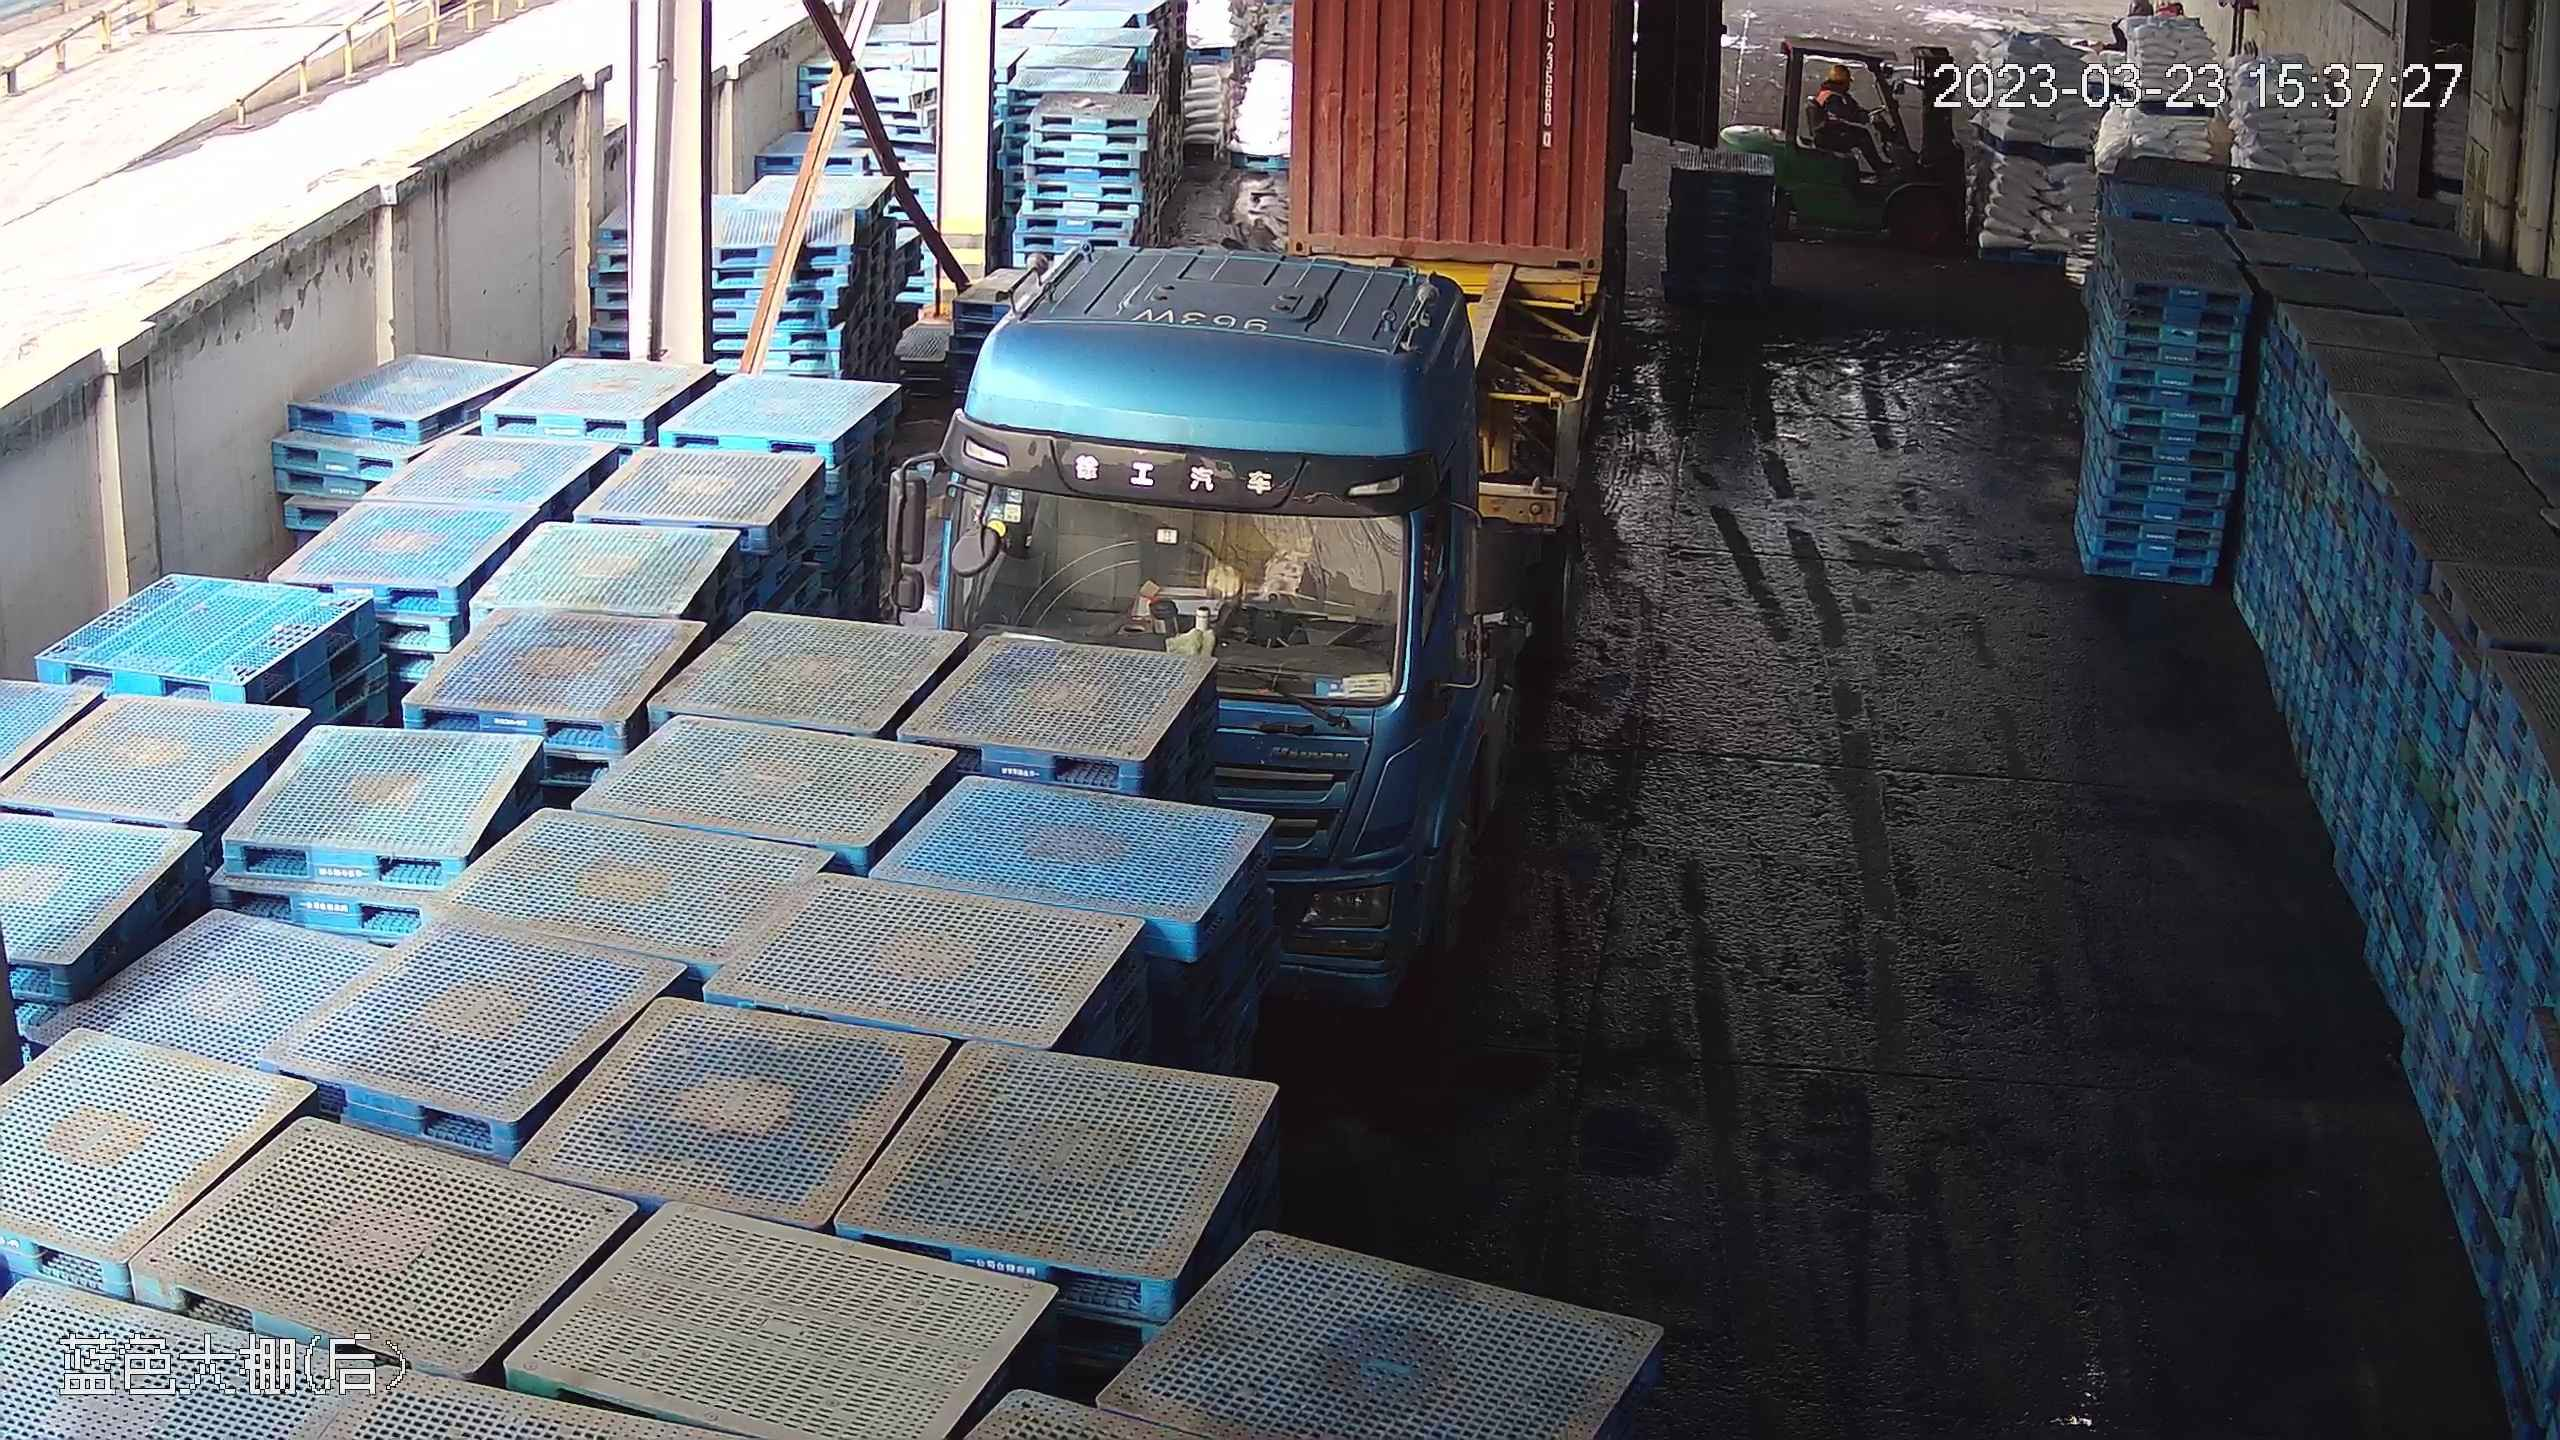head: (1812, 60, 1863, 115)
helmet: (1821, 59, 1851, 85)
people: (1803, 59, 1890, 177)
truck: (892, 1, 1599, 949)
